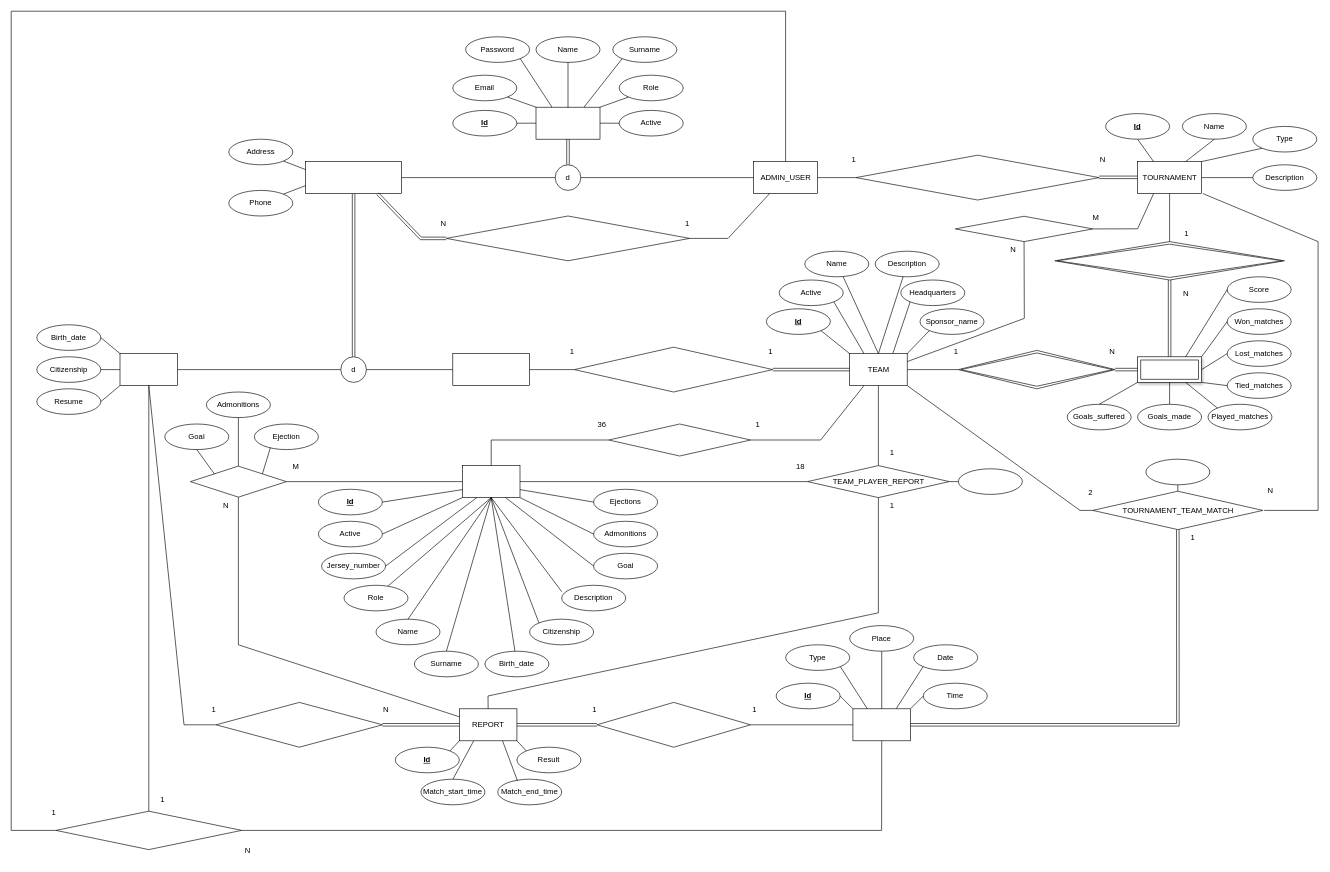
Image size: 1330x872. Some labels were removed from this diagram. Here are the shapes that lost their labels. From the top down, the centre of each, then its label:
At [567,123]: "USER".
At [353,177]: "REGISTERED_USER".
At [977,177]: "ADMIN_USER_BELONGS_TO_TOURNAMENT".
At [568,238]: "REGISTERED_USER_BELONGS_TO_ADMIN_USER".
At [1024,229]: "TOURNAMENT_TEAM".
At [1169,260]: "TOURNAMENT_BELONGS_TO_RANKING".
At [148,369]: "REFEREE".
At [491,369]: "TEAM_MANAGER".
At [673,369]: "TEAM_MANAGER_BELONGS_TO_TEAM".
At [1036,369]: "TEAM_HAS_MANY_RANKING".
At [1169,370]: "RANKING".
At [679,439]: "TEAM_HAS_MANY_PLAYER".
At [238,481]: "PLAYER_REPORT".
At [491,481]: "PLAYER".
At [990,481]: "Reserve".
At [1177,472]: "Match_name".
At [299,724]: "REFEREE_BELONGS_TO_REPORT".
At [673,724]: "REPORT_BELONGS_TO_MATCH".
At [881,724]: "MATCH".
At [148,830]: "ADMIN_USER_REFEREE_MATCH".
